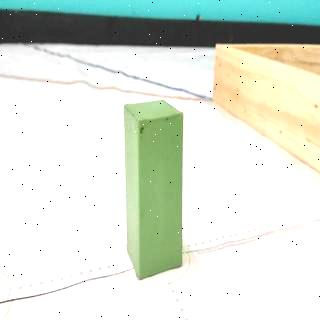greenbox: (125, 98, 187, 282)
